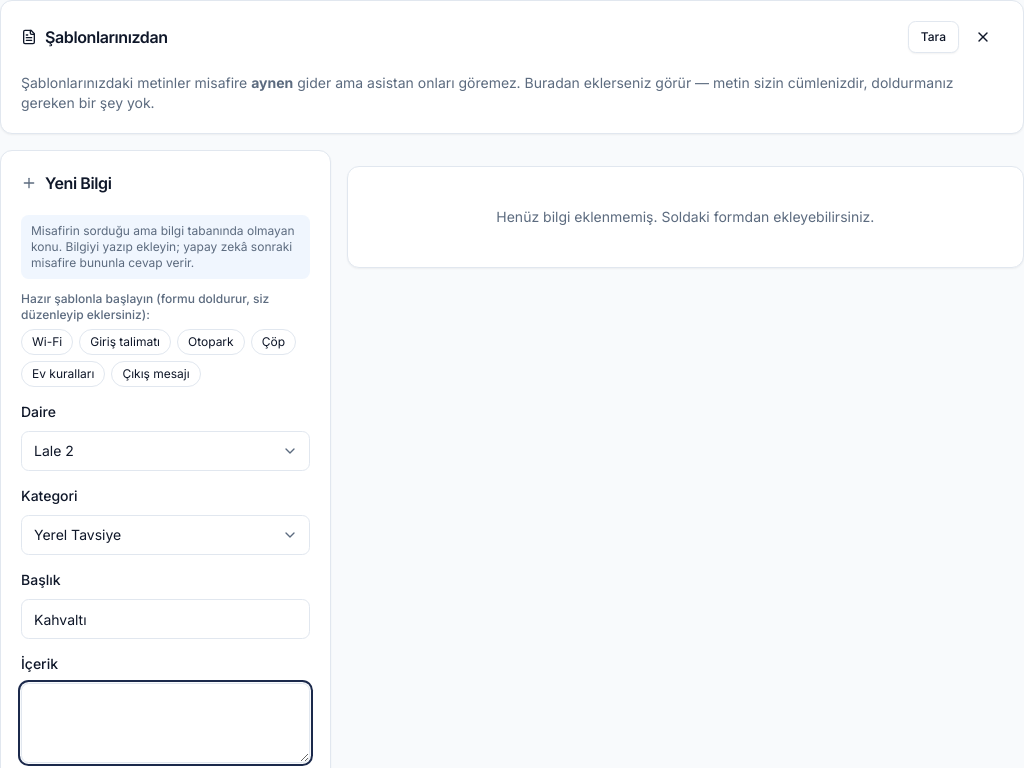
Test: KbManager — ön dolu form › kayıt başarılı olunca açıklama kalkar (form sonraki kalem için boşalır)
The image size is (1024, 768).
Type "Köşedeki fırın, 3 dk." into the text box with id "kb-content" at (165, 723), box [21,683,310,763]
(page scrolled)
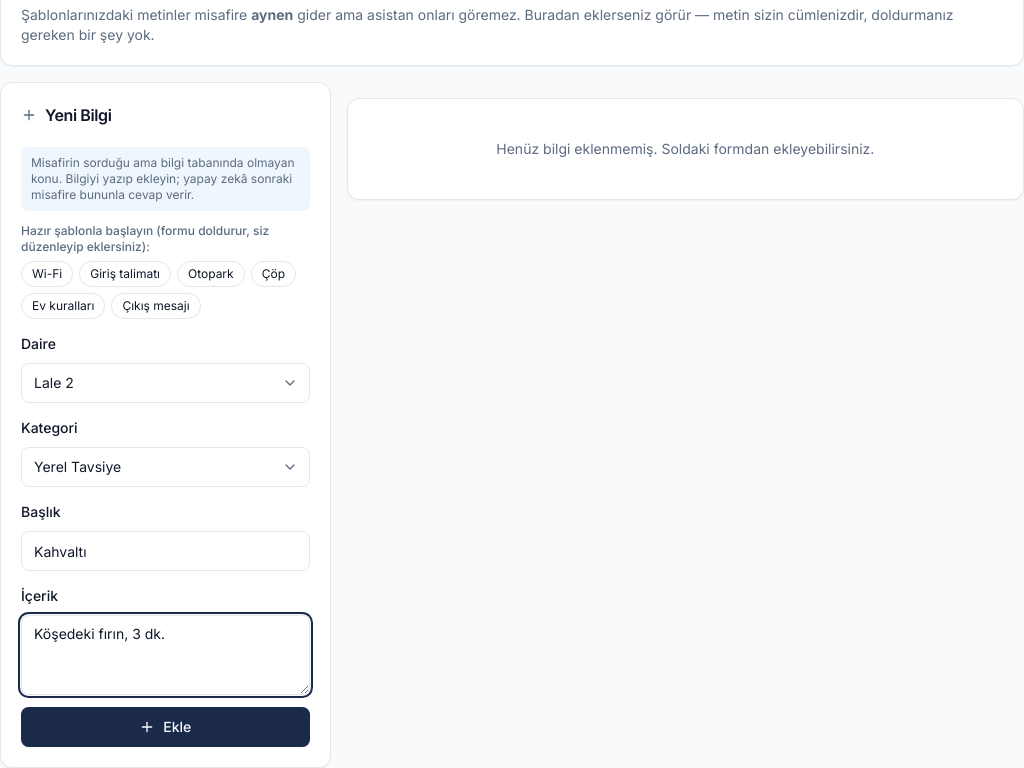
Submit the form with id "kb-content", box [21,147,310,747]
(page scrolled)
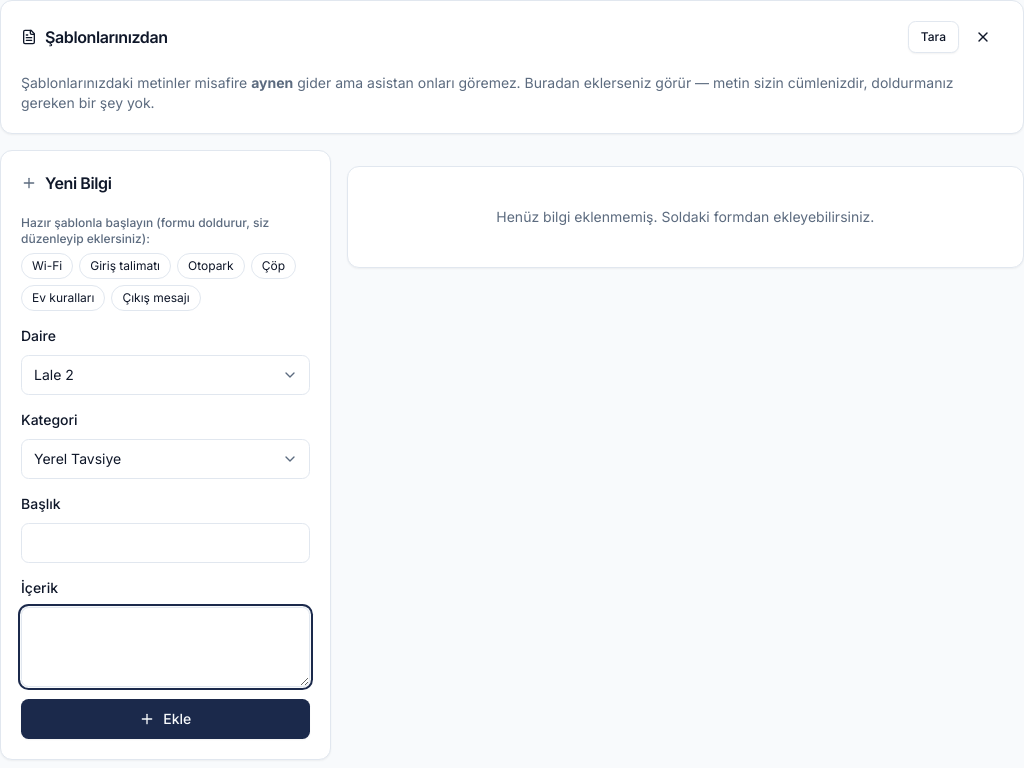
Result: the text "Misafirin sorduğu ama bilgi tabanında olmayan konu" is gone
Result: the field with id "kb-title" is empty at [21,523,310,563]
